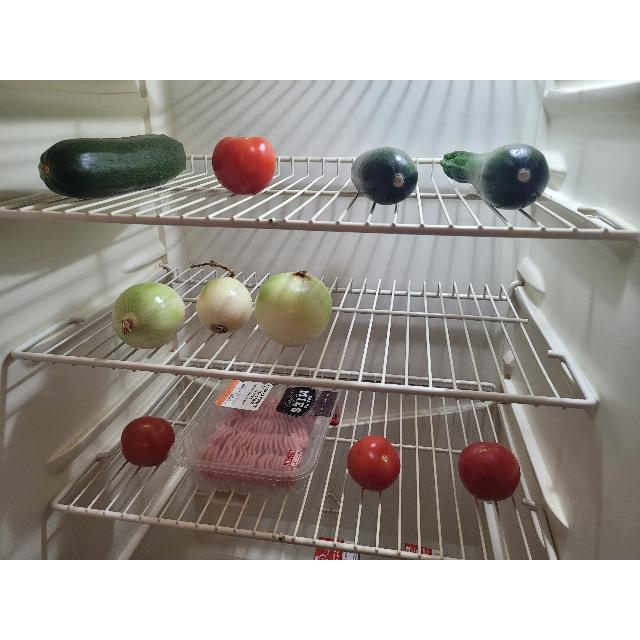meat: (198, 399, 310, 485)
onion: (255, 270, 333, 346), (111, 282, 185, 348), (194, 264, 253, 334)
tomato: (212, 135, 276, 195), (458, 441, 520, 501), (346, 434, 400, 494), (120, 416, 176, 466)
zucchini: (40, 134, 182, 196), (442, 144, 550, 212), (351, 146, 415, 207)
